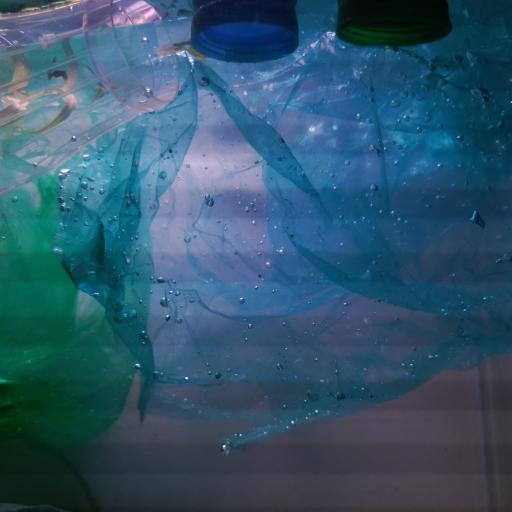bottle_cap: (190, 0, 300, 63), (337, 0, 451, 46)
plastic_bag: (61, 0, 512, 451), (0, 151, 147, 457)
plastic_cup: (2, 0, 180, 188)
